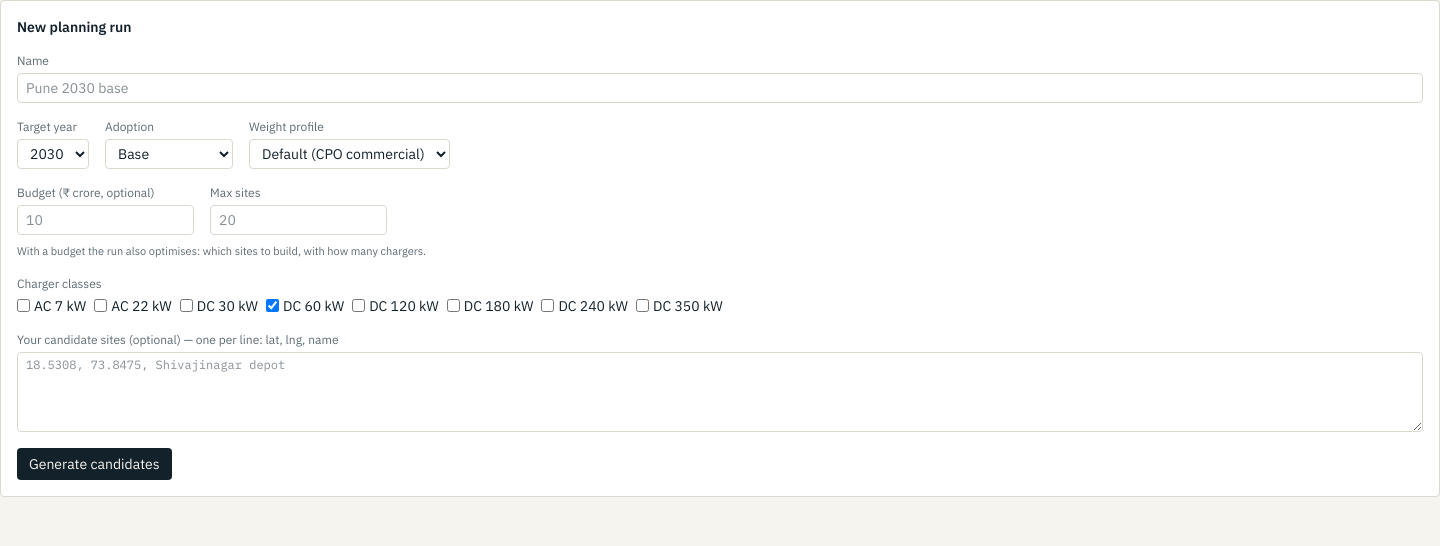
ScenarioForm › shows API validation messages
Click the button "Generate candidates": point(94, 464) x1=17 y1=448 x2=172 y2=480
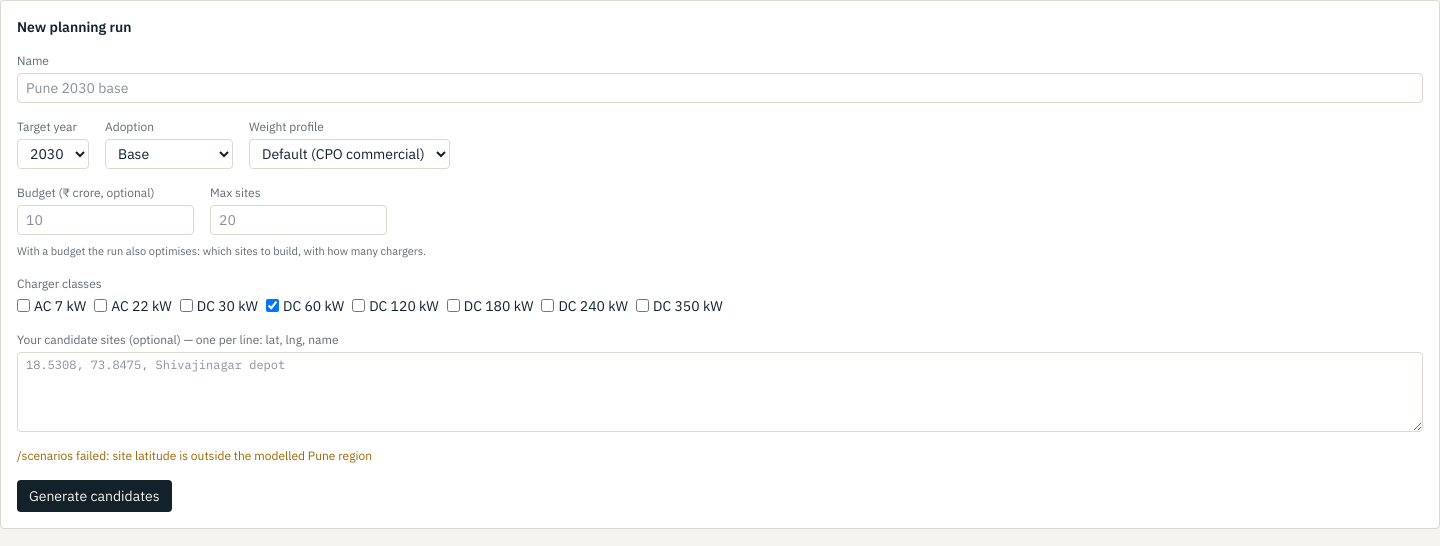
Check: the text "outside the modelled Pune region" is shown, box x1=17 y1=448 x2=372 y2=462
